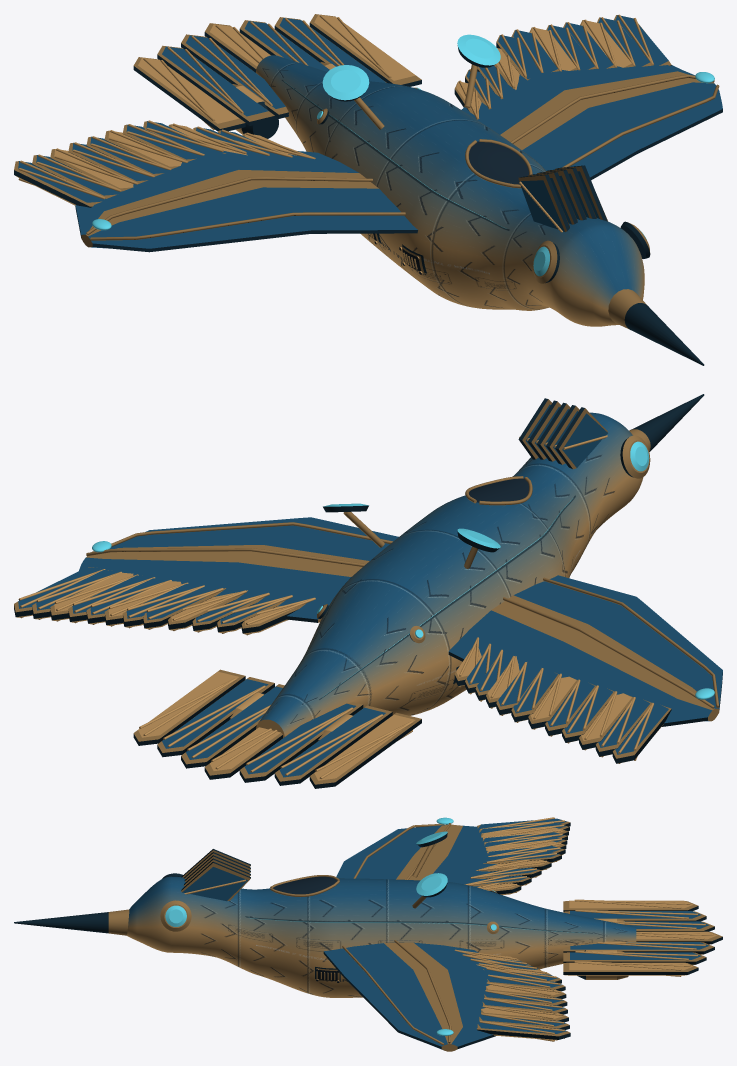
The model's file is ship.glb.
3 views of the same model, one above another, from view 1: azimuth 30°, elevation 25°; view 2: azimuth 150°, elevation 25°; view 3: azimuth 270°, elevation 25° (orthographic). The views are drawn at different scales.
Parts seen in each view (by area): view 1: kingfisher_hull; view 2: kingfisher_hull; view 3: kingfisher_hull.
Part boxes in pixels (x1=…): kingfisher_hull: x1=14, y1=14, x2=722, y2=365; kingfisher_hull: x1=14, y1=394, x2=722, y2=788; kingfisher_hull: x1=14, y1=817, x2=722, y2=1051.
Size of the model in its own units: 12.5 by 3.63 by 17.
Materials: 1 (1 with a texture image).
